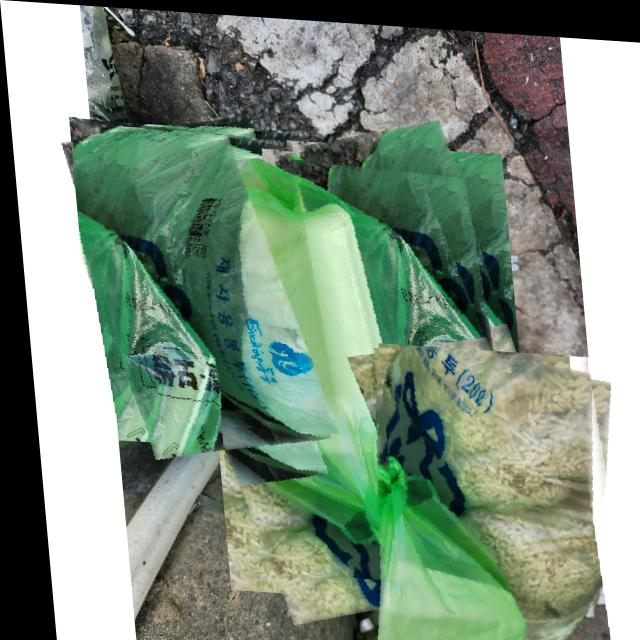general_trashbag: (202, 149, 497, 581), (70, 126, 334, 429), (377, 340, 589, 640), (491, 578, 506, 581)
